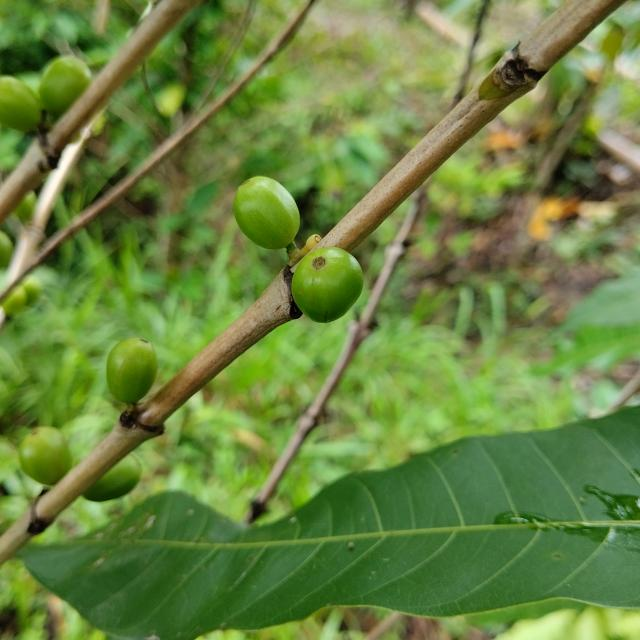green: (291, 247, 364, 323), (233, 176, 300, 249), (106, 338, 157, 404), (38, 55, 91, 116), (18, 427, 71, 486), (82, 454, 141, 502), (0, 75, 40, 131)
